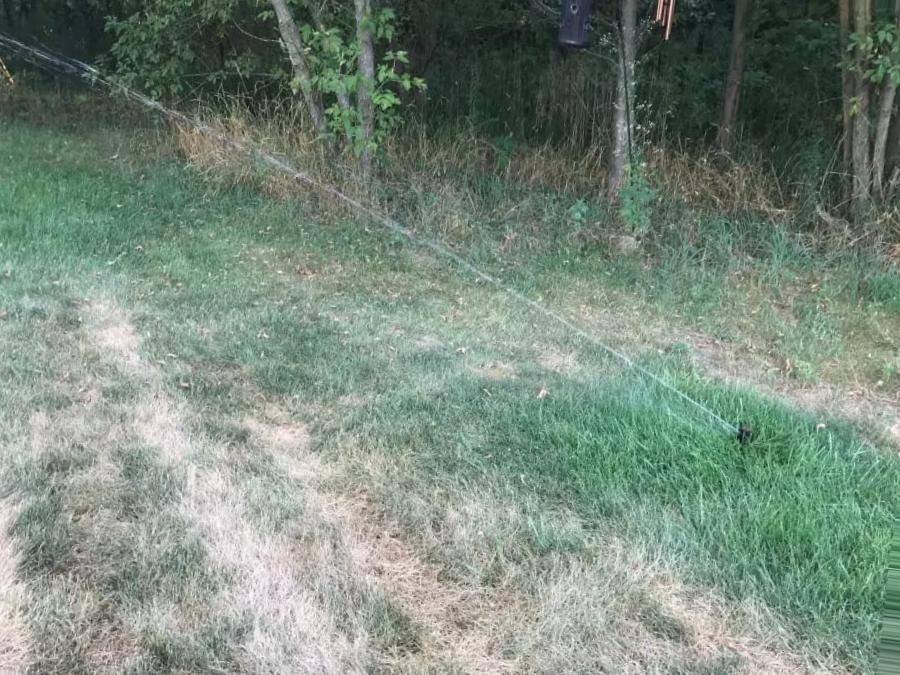patch: (75, 549, 340, 634), (405, 553, 606, 637), (74, 439, 285, 516), (64, 297, 205, 395), (613, 559, 752, 650), (661, 314, 784, 393), (299, 453, 404, 507), (440, 352, 566, 387)
